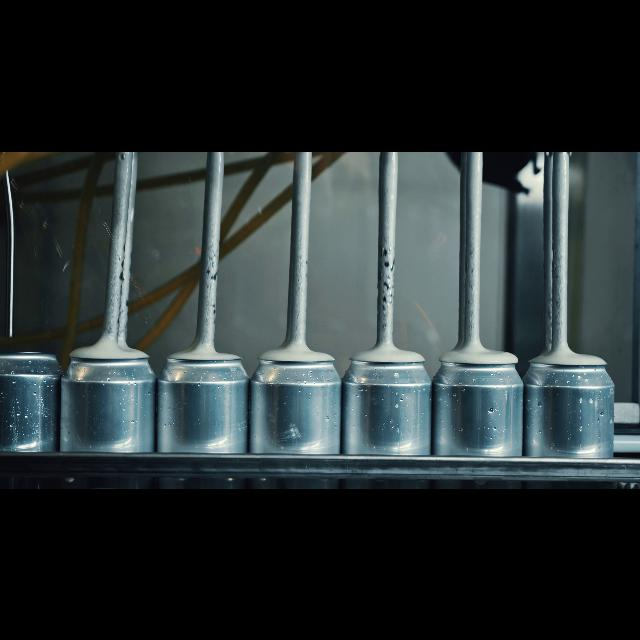empty: (1, 344, 64, 488)
full: (69, 326, 153, 488), (528, 338, 618, 488), (250, 336, 338, 488), (158, 336, 244, 488), (348, 334, 430, 488), (439, 336, 521, 488)
